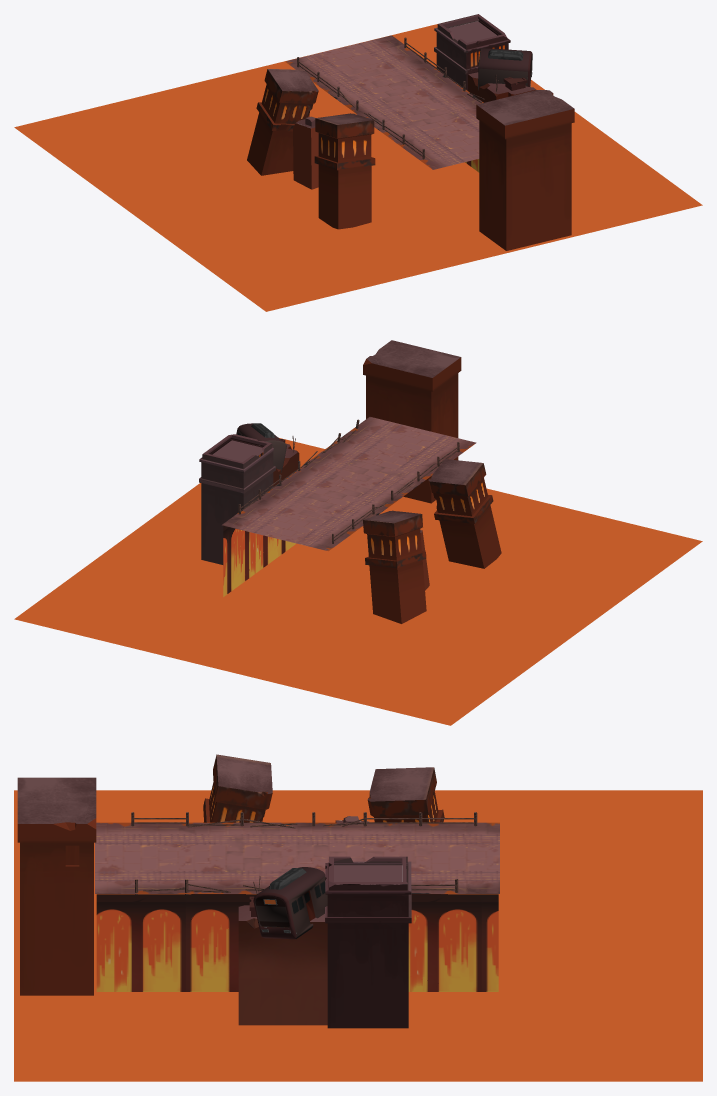
The model's file is Stage_1002_Obj_01.fbx.
3 renders of one model, top to bottom at view 1: azimuth 30°, elevation 25°; view 2: azimuth 150°, elevation 25°; view 3: azimuth 270°, elevation 25°, orthographic. The views are drawn at different scales.
Parts seen in each view (by area): view 1: Plane.002, Cube.002, Plane, Cube.045, Cube.044, Cube.007, Cube.046, Cube.017, Cube.014; view 2: Plane.002, Plane, Cube.002, Cube.007, Cube.044, Cube.045, Plane.001, Cube.017; view 3: Plane.002, Plane, Plane.001, Cube.002, Cube.007, Cube.014, Cube.045, Cube.044, Cube.017.
Part boxes in pixels (bbox=[...]): Plane.002: bbox=[14, 24, 702, 311]; Cube.002: bbox=[476, 90, 574, 250]; Plane: bbox=[285, 35, 483, 169]; Cube.045: bbox=[314, 113, 375, 229]; Cube.044: bbox=[247, 69, 318, 175]; Cube.007: bbox=[434, 14, 510, 90]; Cube.046: bbox=[293, 116, 318, 189]; Cube.017: bbox=[478, 48, 532, 90]; Cube.014: bbox=[468, 72, 536, 102]; Plane.002: bbox=[14, 438, 702, 725]; Plane: bbox=[222, 417, 476, 551]; Cube.002: bbox=[363, 340, 461, 503]; Cube.007: bbox=[199, 434, 275, 564]; Cube.044: bbox=[363, 510, 426, 623]; Cube.045: bbox=[428, 459, 501, 568]; Plane.001: bbox=[223, 525, 296, 596]; Cube.017: bbox=[236, 423, 286, 472]; Plane.002: bbox=[14, 790, 702, 1081]; Plane: bbox=[95, 822, 499, 893]; Plane.001: bbox=[96, 894, 498, 991]; Cube.002: bbox=[17, 777, 96, 995]; Cube.007: bbox=[325, 856, 411, 1028]; Cube.014: bbox=[238, 896, 327, 1025]; Cube.045: bbox=[191, 754, 272, 894]; Cube.044: bbox=[367, 767, 447, 894]; Cube.017: bbox=[253, 867, 327, 939].
Bounding box in the file's own units: 3512 × 1074 × 3512.
